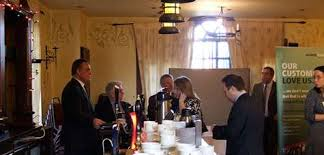person: (210, 72, 263, 146), (57, 58, 103, 139)
